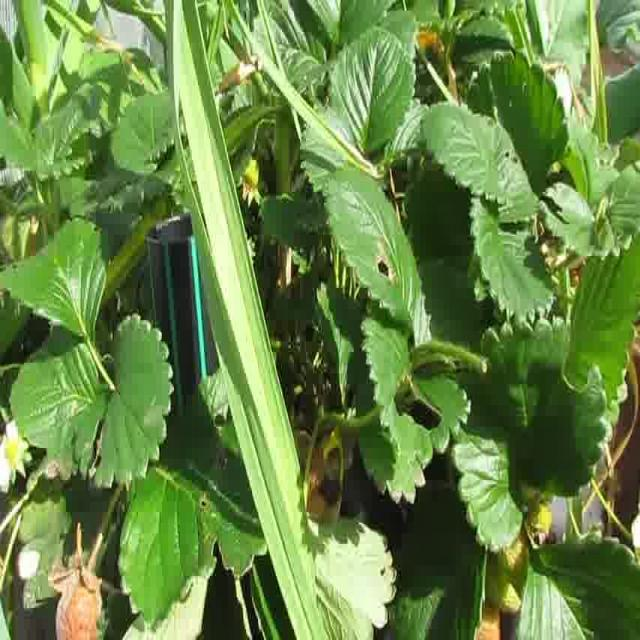Fruta sana: (484, 554, 526, 617), (504, 531, 530, 588), (472, 594, 500, 640), (525, 496, 553, 536), (243, 158, 260, 191), (4, 438, 20, 469)
Moho gris: (51, 567, 103, 640)
